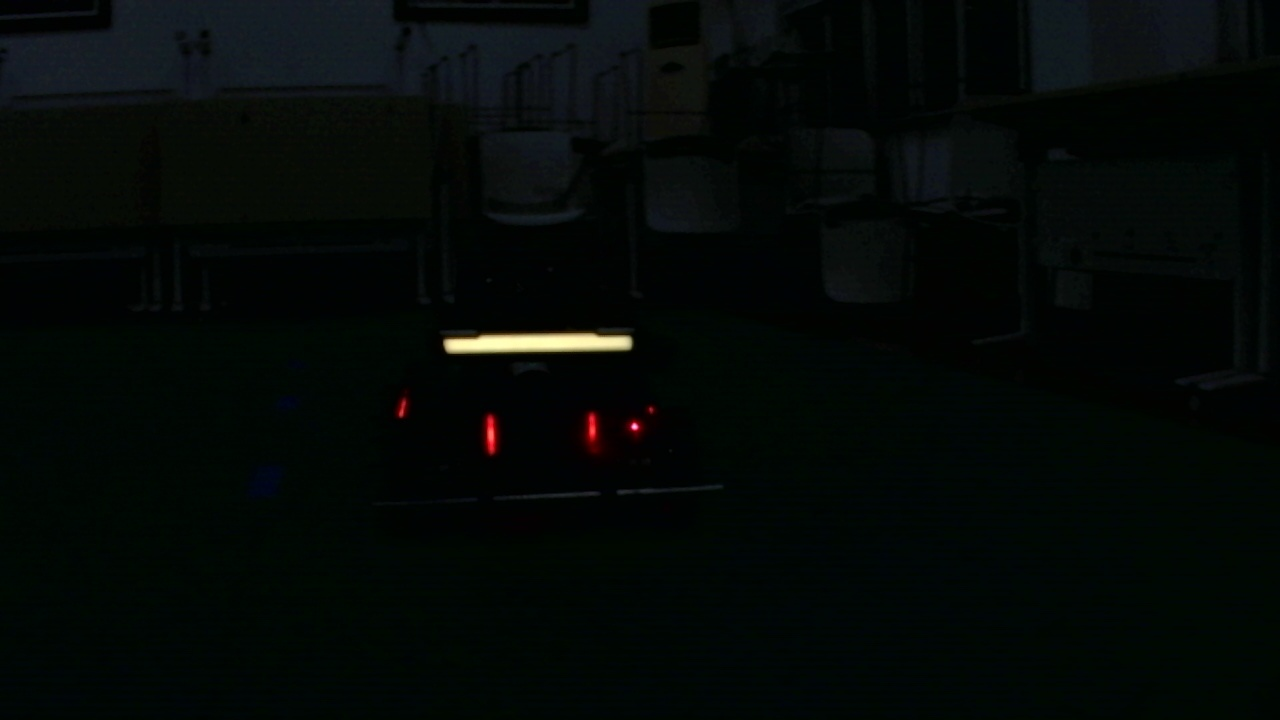lamp: (583, 409, 600, 447), (483, 408, 497, 454)
pair1: (485, 415, 600, 450)
